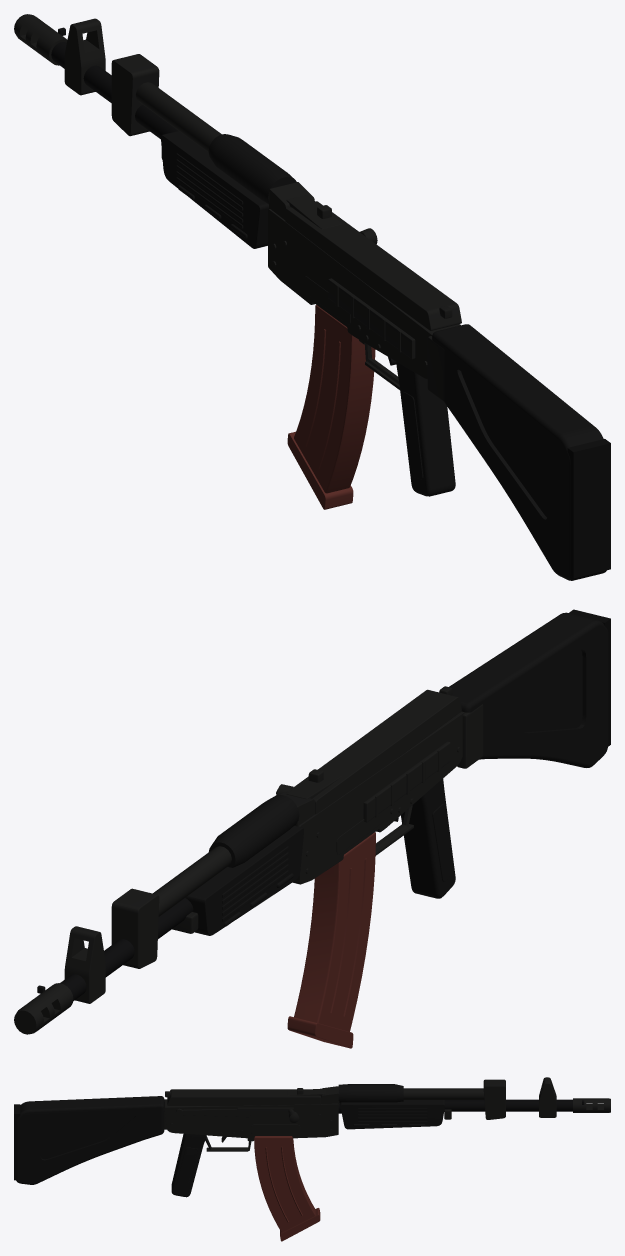
Rendered from weapon_ak74m.glb.
3 renders of one model, top to bottom at view 1: azimuth 30°, elevation 25°; view 2: azimuth 150°, elevation 25°; view 3: azimuth 270°, elevation 25°, orthographic. The views are drawn at different scales.
Parts seen in each view (by area): view 1: weapon_ak74m_LOD0, weapon_ak74m_Stock_LOD0, weapon_ak74m_Mag_LOD0; view 2: weapon_ak74m_LOD0, weapon_ak74m_Stock_LOD0, weapon_ak74m_Mag_LOD0; view 3: weapon_ak74m_LOD0, weapon_ak74m_Stock_LOD0, weapon_ak74m_Mag_LOD0, weapon_ak74m_Bolt_LOD0.
Part boxes in pixels (x1=…): weapon_ak74m_LOD0: x1=14, y1=14, x2=461, y2=496; weapon_ak74m_Stock_LOD0: x1=427, y1=324, x2=610, y2=580; weapon_ak74m_Mag_LOD0: x1=287, y1=305, x2=375, y2=509; weapon_ak74m_LOD0: x1=14, y1=686, x2=464, y2=1034; weapon_ak74m_Stock_LOD0: x1=449, y1=609, x2=610, y2=768; weapon_ak74m_Mag_LOD0: x1=287, y1=832, x2=375, y2=1048; weapon_ak74m_LOD0: x1=164, y1=1077, x2=610, y2=1197; weapon_ak74m_Stock_LOD0: x1=14, y1=1096, x2=166, y2=1184; weapon_ak74m_Mag_LOD0: x1=254, y1=1136, x2=320, y2=1241; weapon_ak74m_Bolt_LOD0: x1=237, y1=1107, x2=299, y2=1122.
Size of what is drawn, in the model's own units: 0.0713 by 0.2751 by 0.945.
